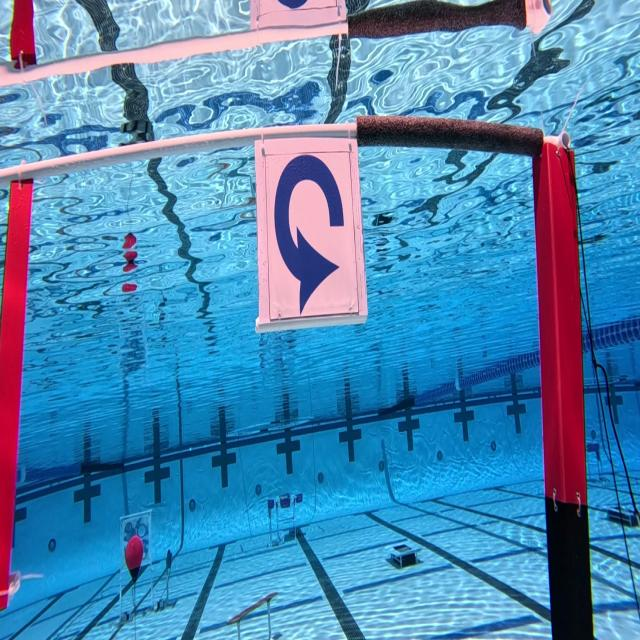red_side: (254, 125, 374, 336)
